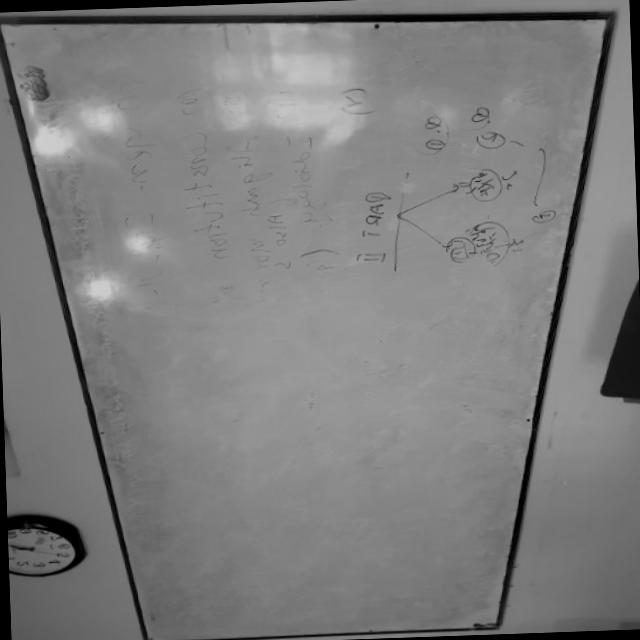White-board: (0, 17, 607, 640)
